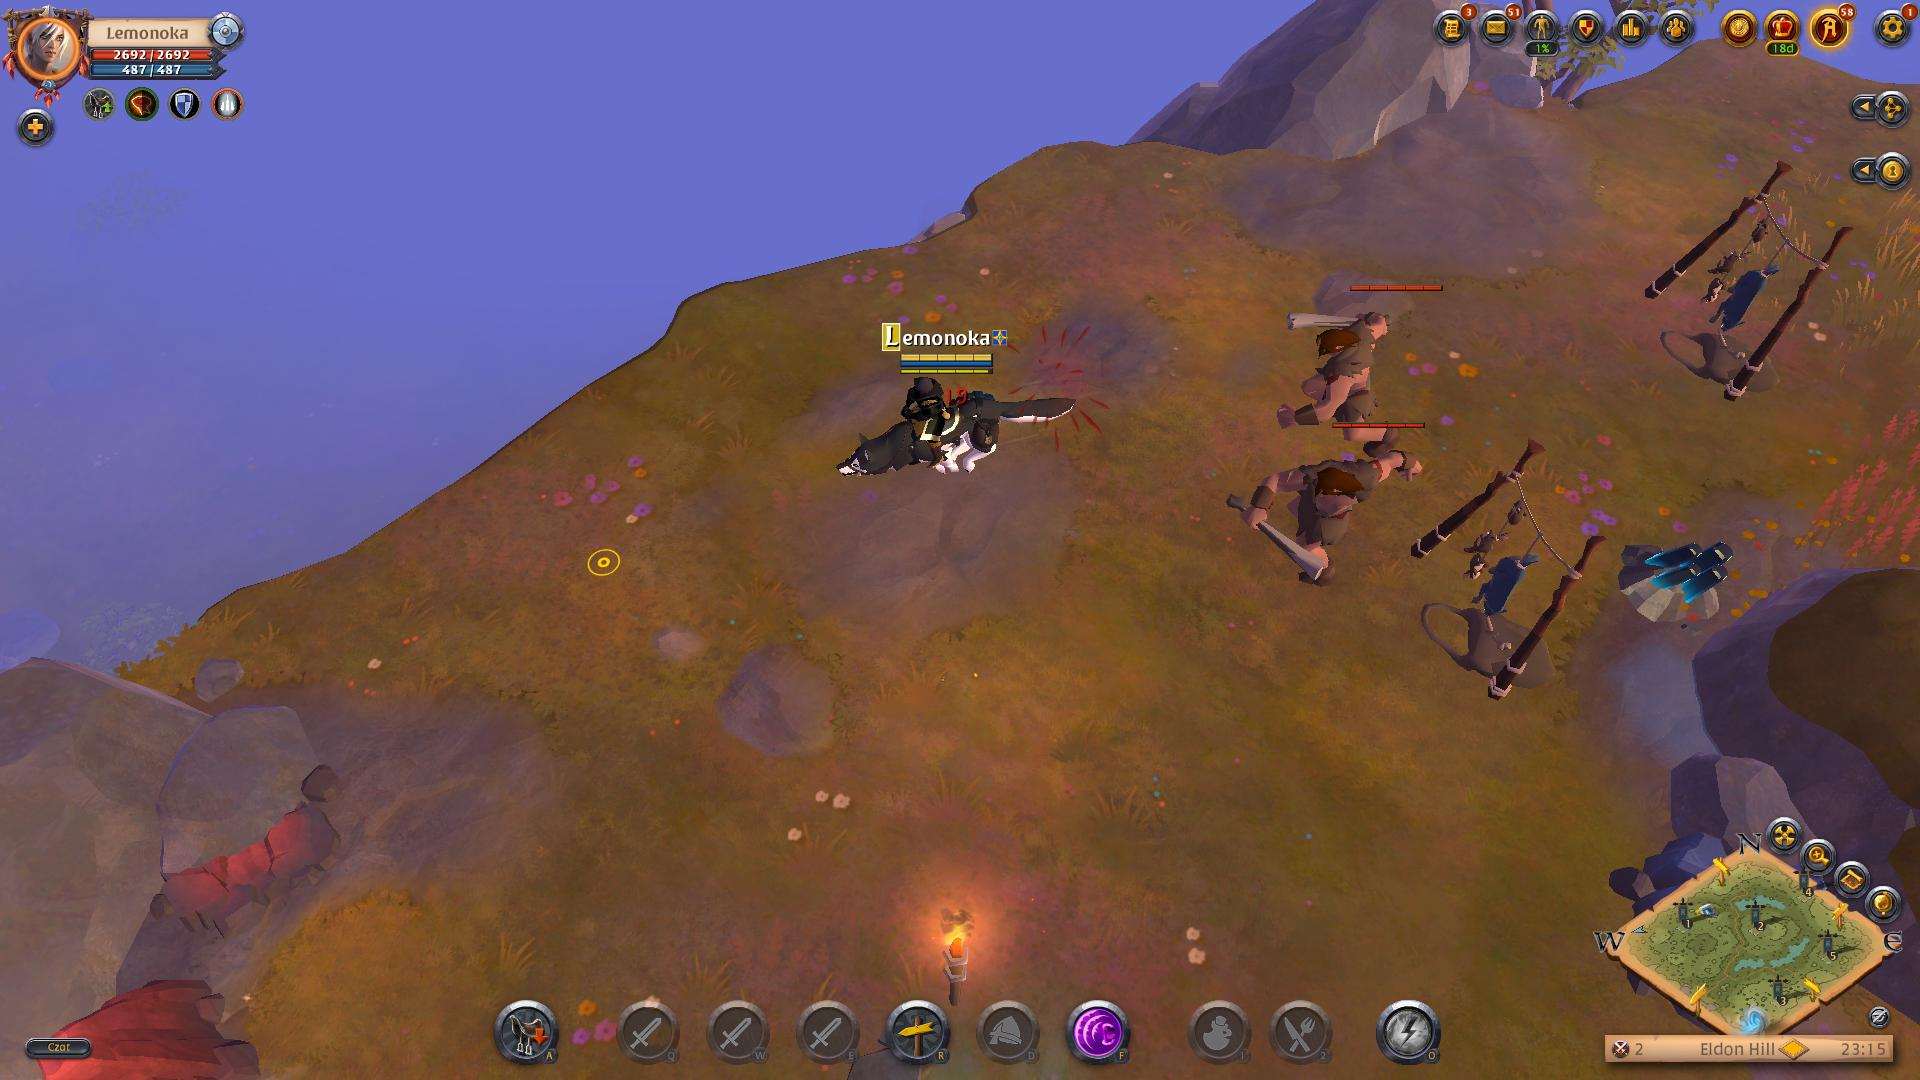ore tier 4: (1613, 530, 1735, 630)
